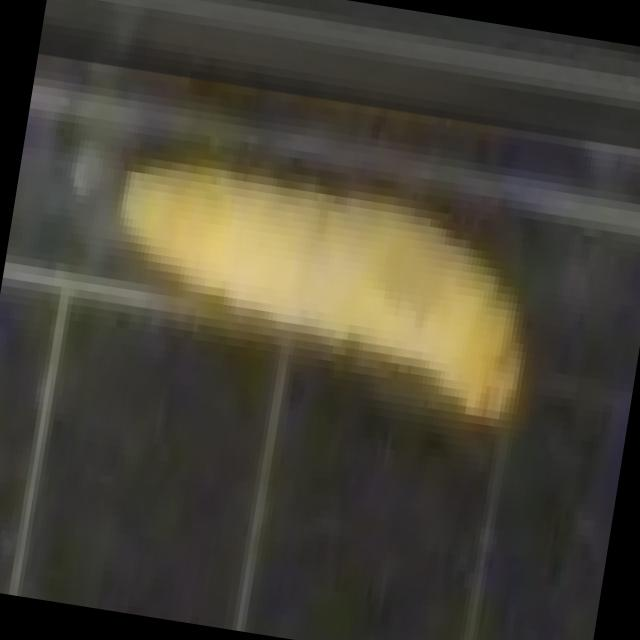larva: (90, 149, 554, 441)
